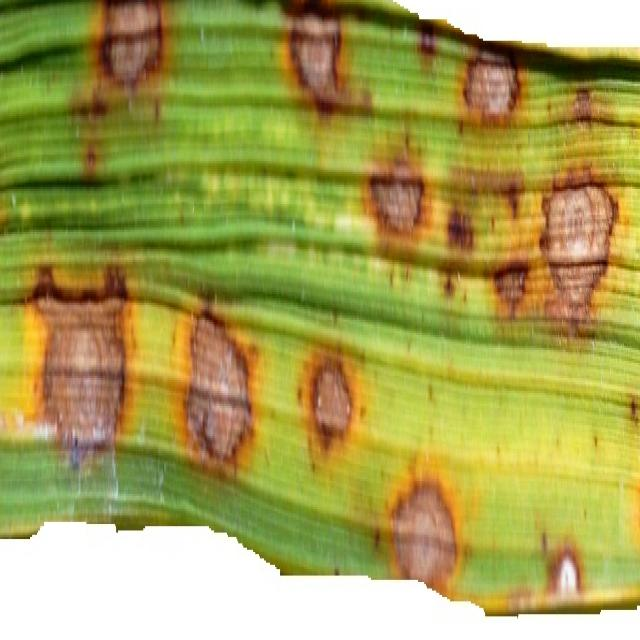brown spot: (162, 270, 260, 497), (24, 243, 140, 430), (535, 141, 626, 332), (350, 132, 438, 288), (378, 445, 465, 600), (291, 328, 368, 486), (92, 0, 174, 140), (274, 0, 352, 114), (455, 45, 525, 163), (528, 512, 586, 622), (488, 215, 531, 339), (441, 184, 481, 266), (557, 74, 607, 135), (492, 148, 528, 224), (412, 18, 443, 82), (625, 361, 640, 449), (436, 264, 458, 320)
